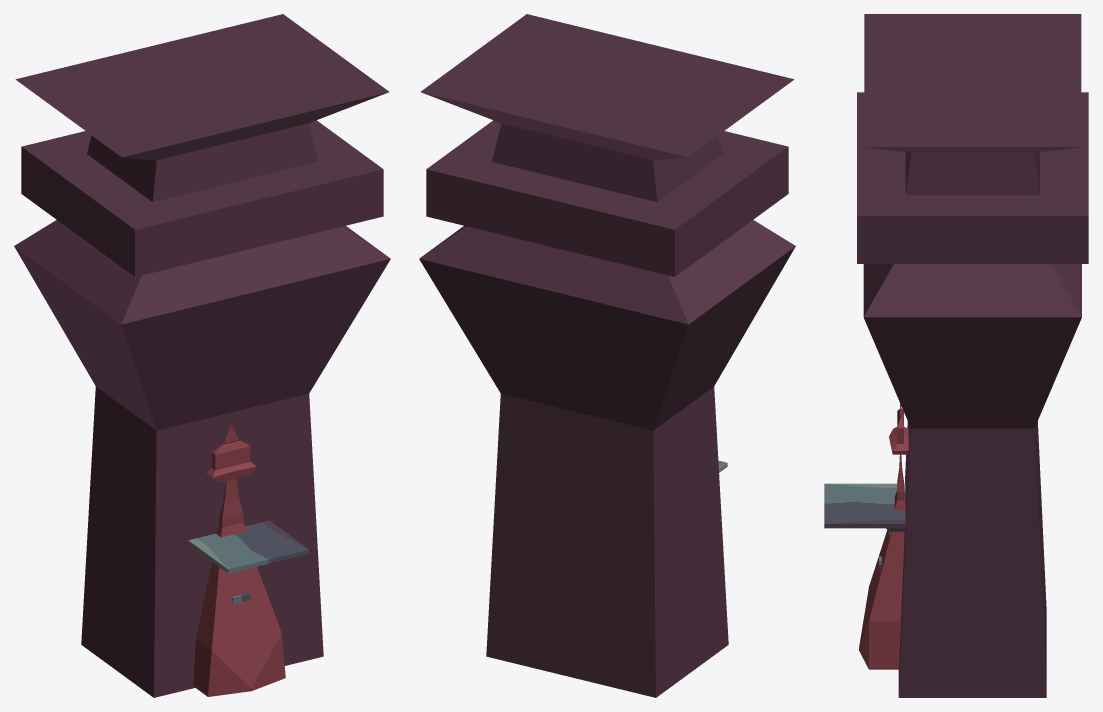
Rendered from buildings.fbx.
3 renders of one model, left to right at view 1: azimuth 30°, elevation 25°; view 2: azimuth 150°, elevation 25°; view 3: azimuth 270°, elevation 25°, orthographic.
Visible parts, largest first — view 1: Buiding_05, Building_01, Building_02, Buiding_04; view 2: Buiding_05; view 3: Buiding_05, Building_01, Building_02.
Part boxes in pixels (<box>): Buiding_05: <box>14,14,390,697</box>; Building_01: <box>193,422,285,696</box>; Building_02: <box>188,520,309,603</box>; Buiding_04: <box>233,407,262,580</box>; Buiding_05: <box>419,14,795,697</box>; Buiding_05: <box>857,14,1088,697</box>; Building_01: <box>859,403,908,669</box>; Building_02: <box>824,483,905,571</box>.
Bounding box in the file's own units: 16563 × 33158 × 13804.
